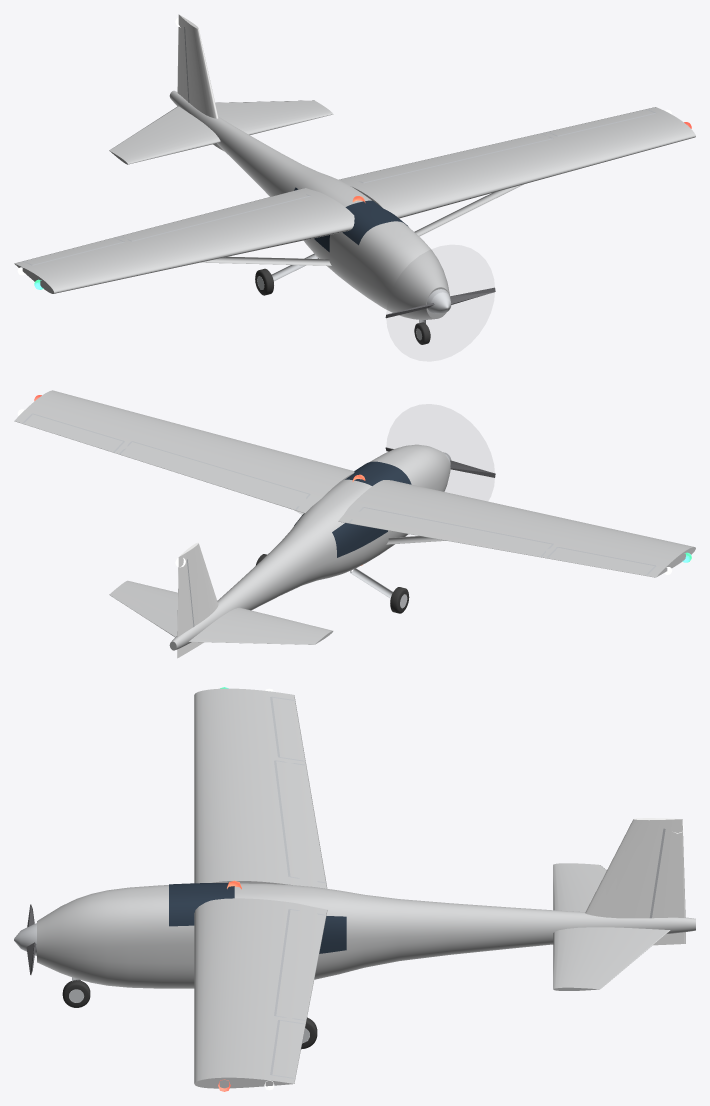
3 views of the same model, one above another, from view 1: azimuth 30°, elevation 25°; view 2: azimuth 150°, elevation 25°; view 3: azimuth 270°, elevation 25° (orthographic). The views are drawn at different scales.
Visible parts, largest first — view 1: airframe, prop; view 2: airframe; view 3: airframe.
Part boxes in pixels (x1,y1,x2,y2): airframe: (14, 14, 695, 344); prop: (385, 287, 495, 318); airframe: (14, 390, 695, 658); airframe: (14, 687, 695, 1091).
Size of the model in its own units: 10.42 by 2.34 by 7.56.
